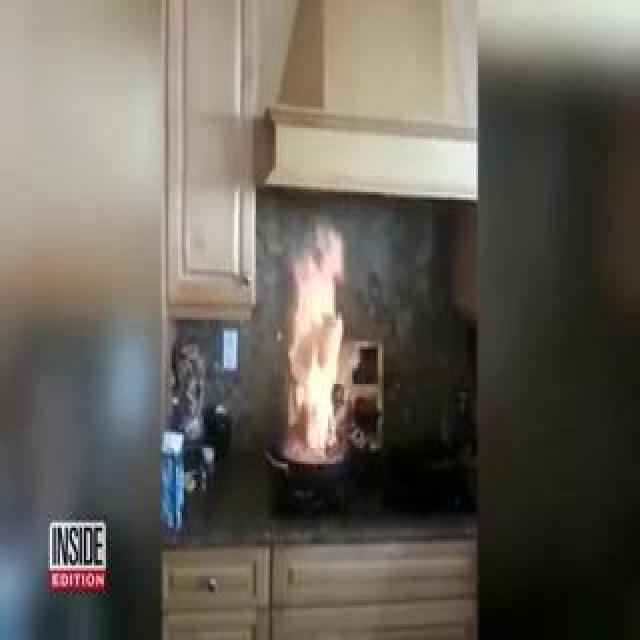Fire: (273, 226, 363, 474)
